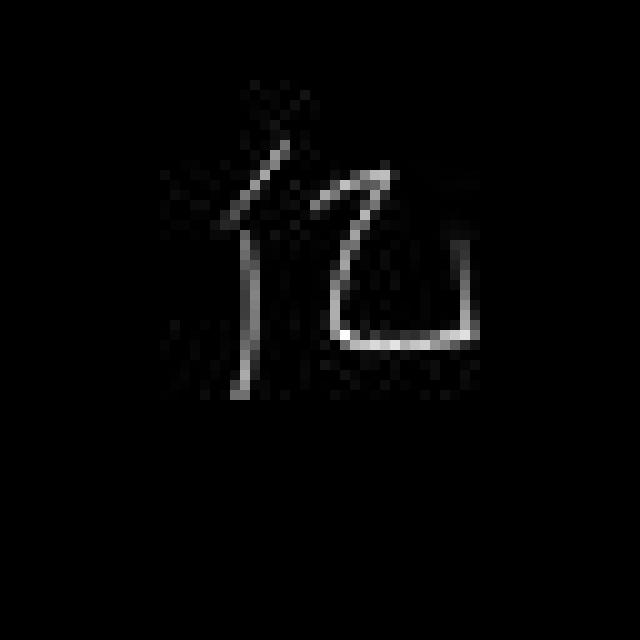100000 -a hundred thousand-: (200, 123, 485, 410)
